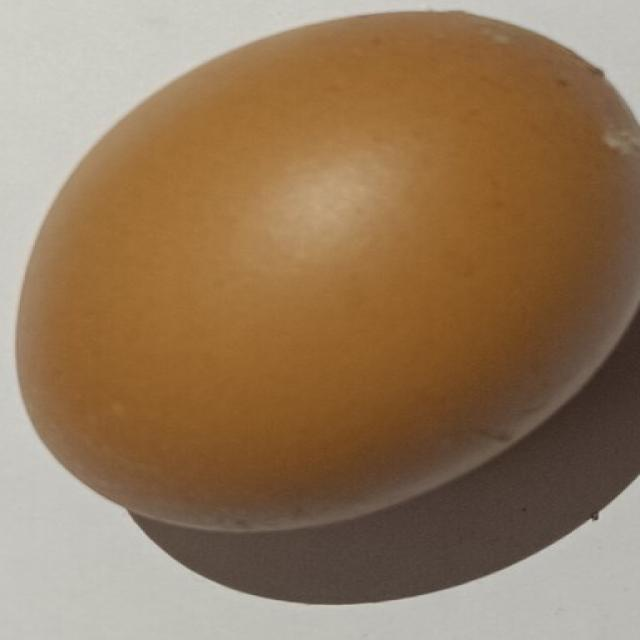fresh: (16, 10, 640, 530)
